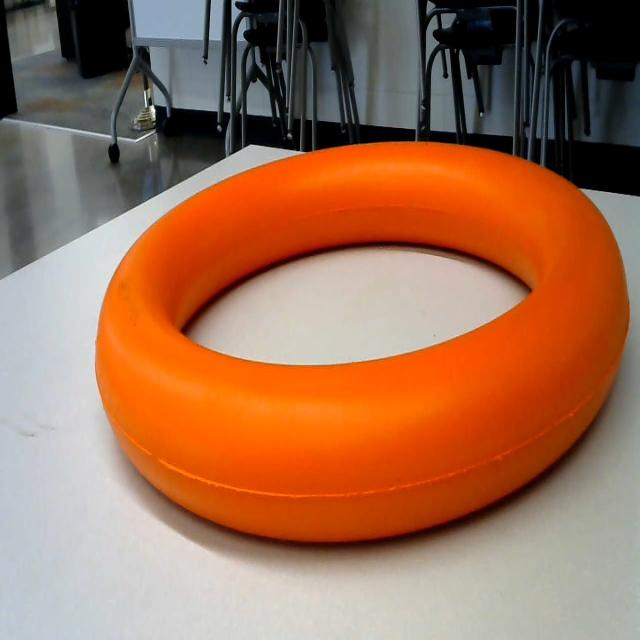note: (74, 133, 636, 567)
